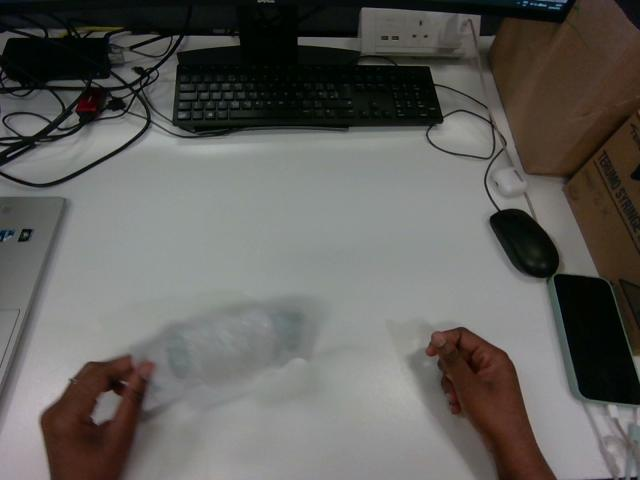gallipot: (131, 307, 305, 410)
